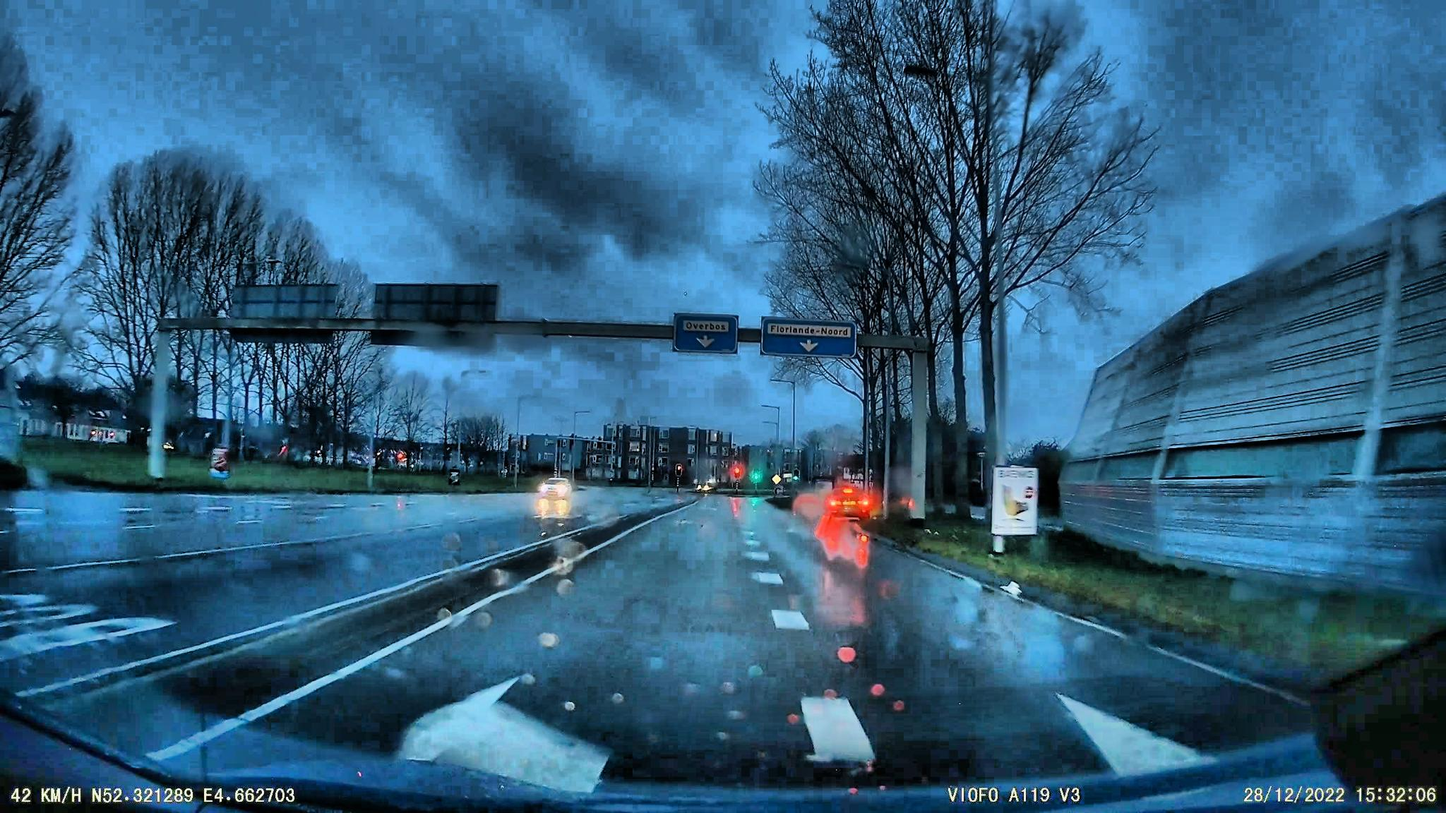Roads: (0, 487, 1352, 813)
